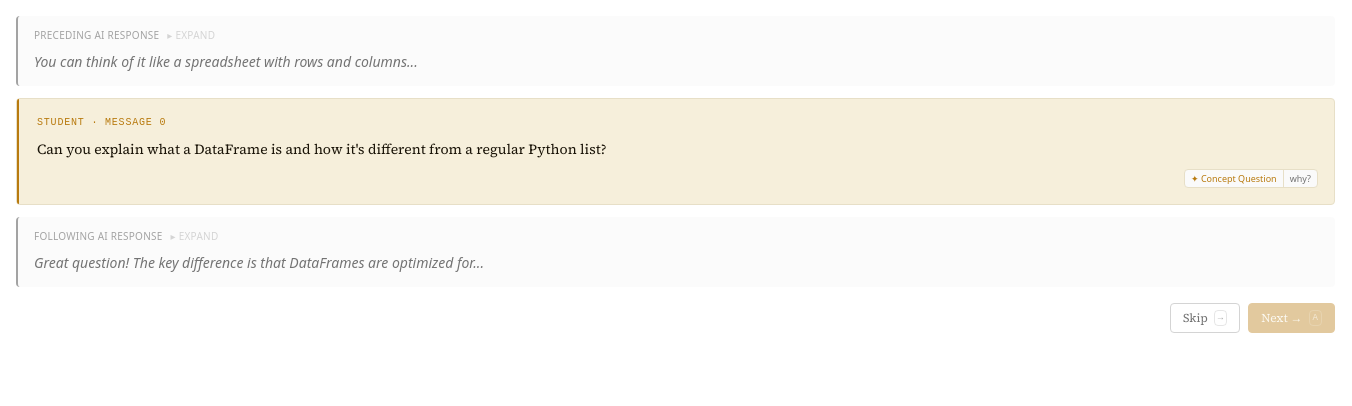
Test: expands rationale when why? is clicked
The image size is (1352, 406).
Click the button "why?" at (1300, 178), box [1283,170,1317,187]
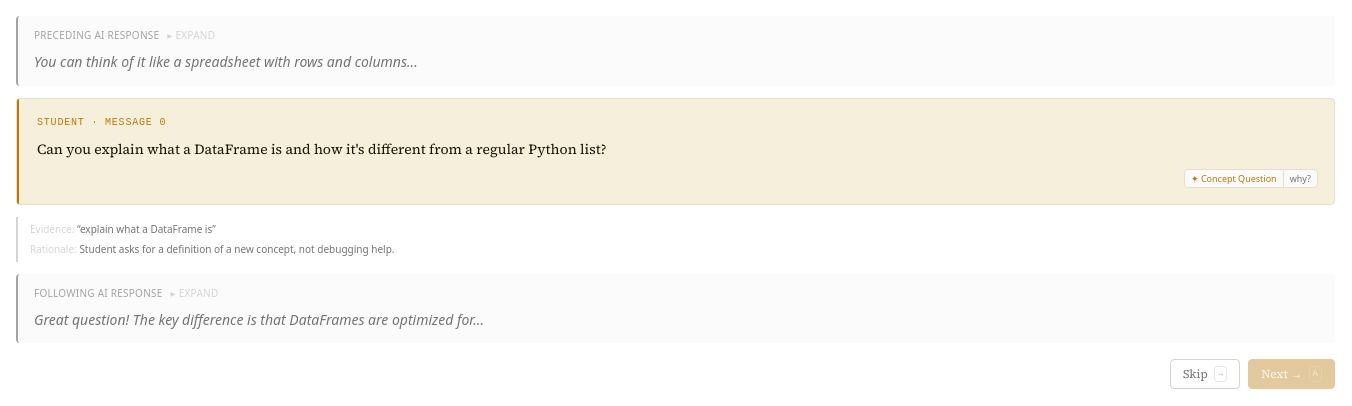
Result: the text "Student asks for a definition of a new concept, not debugging help." is shown at [79,242,394,256]
